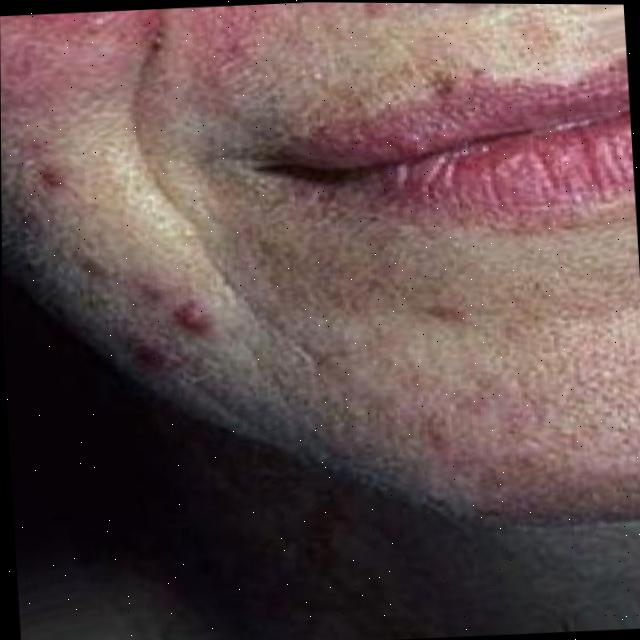Rosacea: (0, 3, 261, 95), (48, 175, 77, 200), (179, 301, 206, 325)
